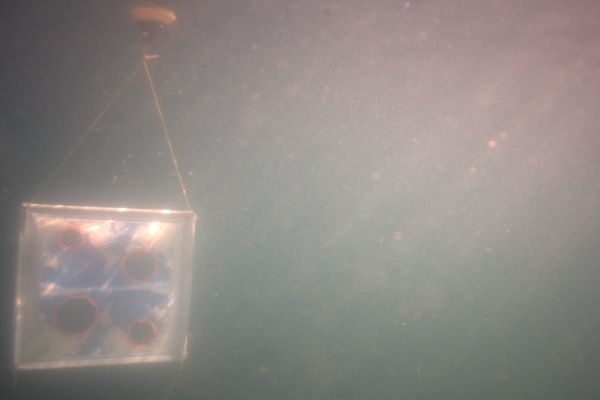torpille: (13, 202, 196, 368)
torpille_target: (56, 295, 98, 335), (121, 249, 157, 283), (128, 319, 156, 347), (60, 228, 84, 251)
